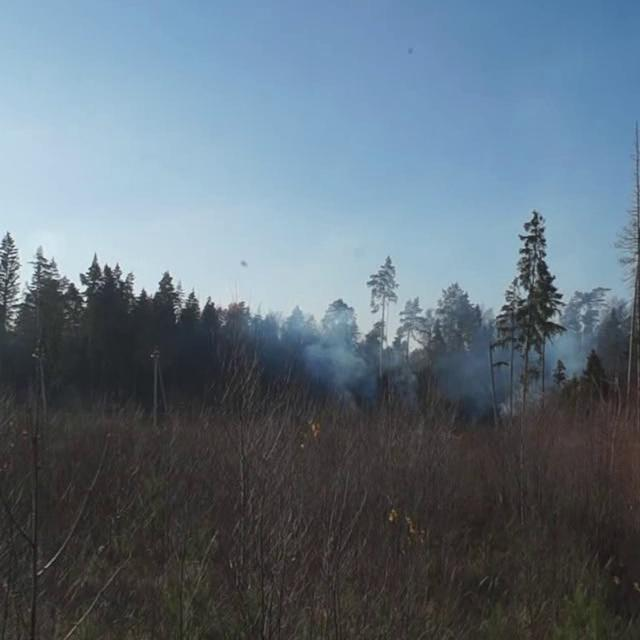Smoke: (254, 304, 613, 436)
